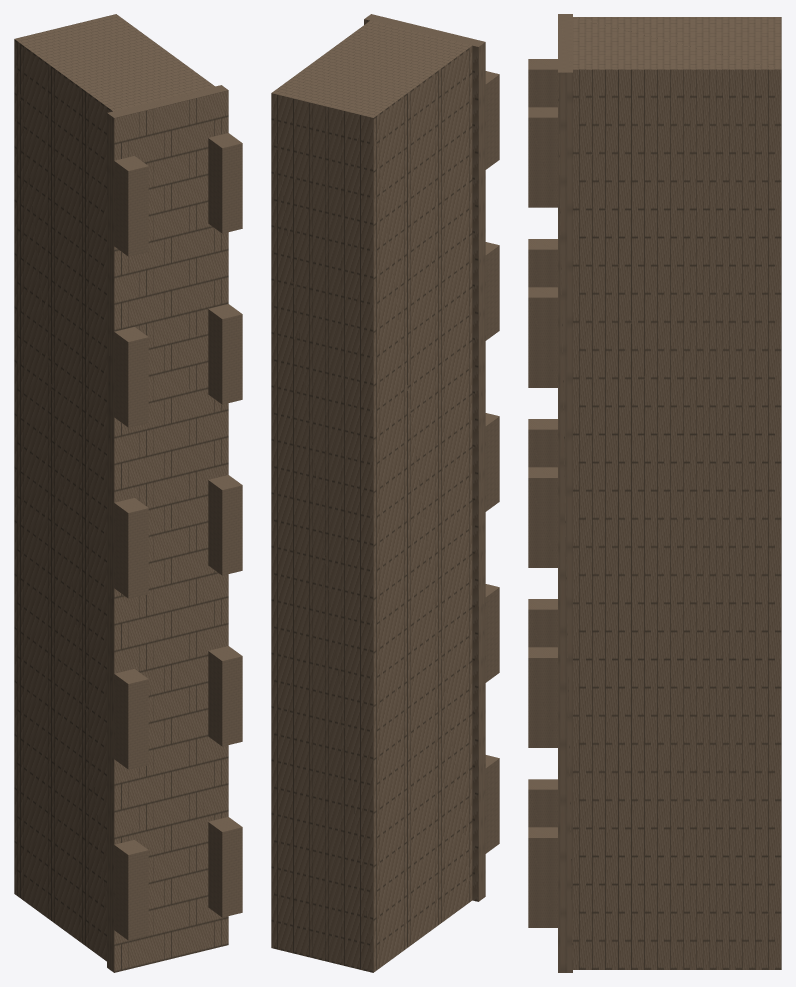
Rendered from SM_Rampart_Wall.obj.
3 views of the same model, side by side, from view 1: azimuth 30°, elevation 25°; view 2: azimuth 150°, elevation 25°; view 3: azimuth 270°, elevation 25° (orthographic). The views are drawn at different scales.
Parts seen in each view (by area): view 1: SM_Rampart_Wall; view 2: SM_Rampart_Wall; view 3: SM_Rampart_Wall.
Part boxes in pixels (x1,y1,x2,y2): SM_Rampart_Wall: (14, 14, 242, 972); SM_Rampart_Wall: (271, 14, 499, 972); SM_Rampart_Wall: (528, 14, 781, 972).
Bounding box in the file's own units: 280 × 2000 × 510.
1 material, 1 textured.
